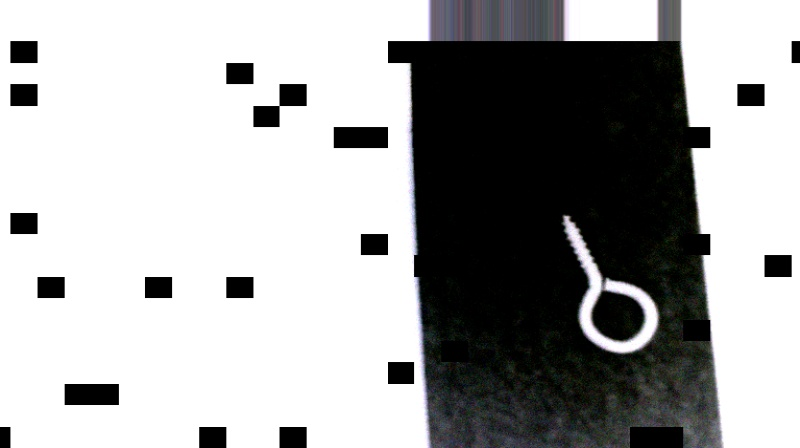O001: (558, 211, 663, 356)
